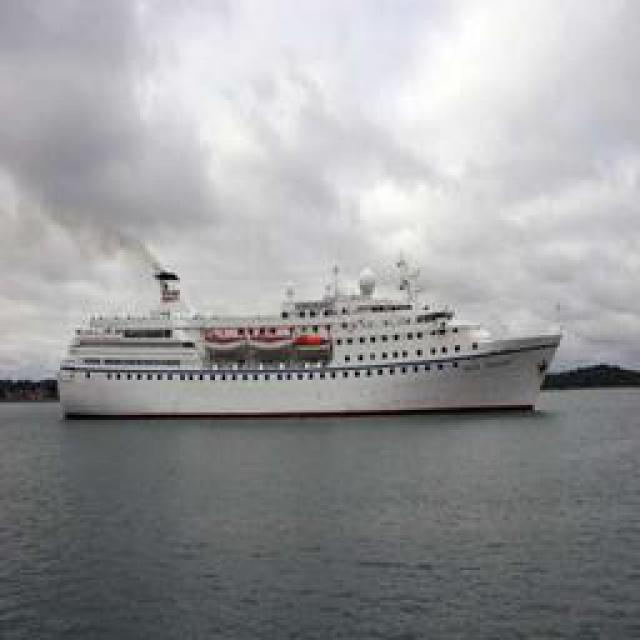Ship: (67, 260, 565, 425)
